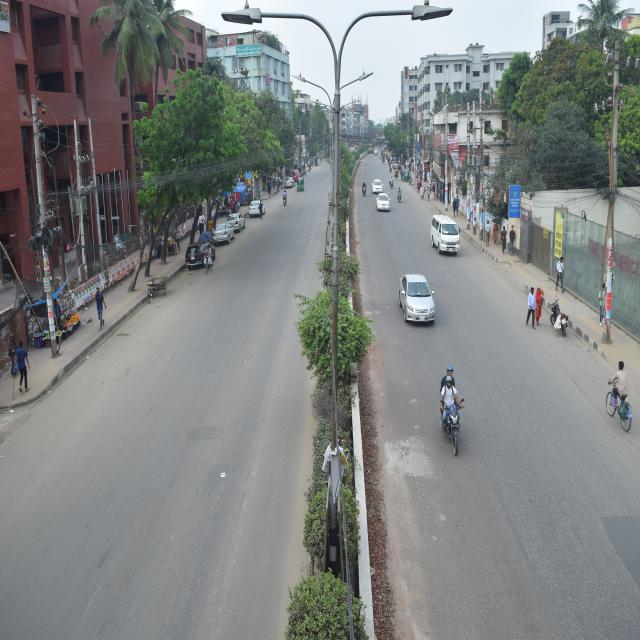car: (397, 268, 441, 330), (182, 242, 219, 274), (210, 217, 233, 247), (227, 207, 246, 238), (374, 190, 394, 215), (248, 197, 267, 216), (374, 178, 384, 195)
microbus: (429, 207, 466, 260)
motorbike: (422, 367, 476, 456), (546, 292, 574, 340), (394, 186, 404, 202), (360, 180, 368, 200), (282, 190, 292, 204)
